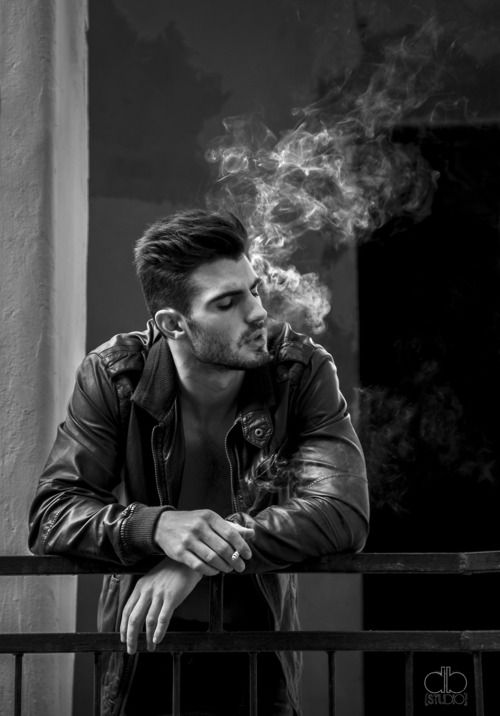cigarette: (228, 535, 247, 575)
